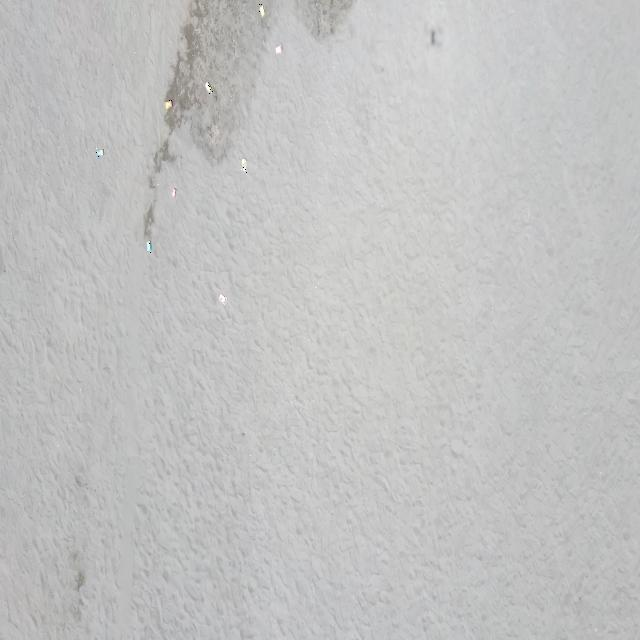Garbage: (430, 28, 439, 45), (163, 99, 172, 110), (204, 81, 212, 92), (218, 293, 226, 303), (240, 159, 246, 172), (145, 240, 151, 252), (96, 148, 103, 156), (259, 3, 263, 16), (275, 44, 280, 54), (171, 187, 176, 196)
